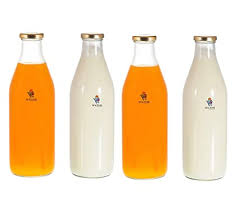milk: (57, 26, 118, 184), (183, 26, 233, 183)
